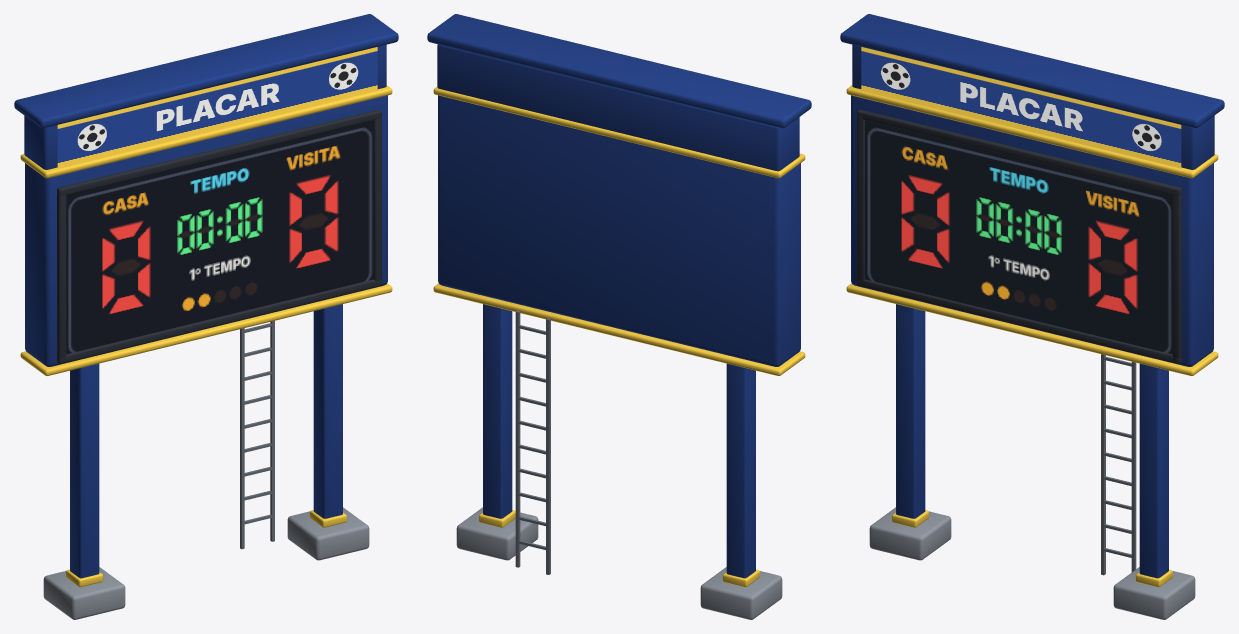
File: placar_eletronico.glb
3 views of the same model, side by side, from view 1: azimuth 30°, elevation 25°; view 2: azimuth 150°, elevation 25°; view 3: azimuth 330°, elevation 25° (orthographic).
Parts seen in each view (by area): view 1: placar_eletronico, tela_placar; view 2: placar_eletronico; view 3: placar_eletronico, tela_placar.
Part boxes in pixels (x1,y1,x2,y2): placar_eletronico: [14, 14, 398, 619]; tela_placar: [66, 120, 373, 354]; placar_eletronico: [427, 14, 811, 619]; placar_eletronico: [840, 14, 1224, 619]; tela_placar: [865, 120, 1172, 354].
Bounding box in the file's own units: 4.7 × 6.37 × 0.77.
Materials: 3 (3 with a texture image).
